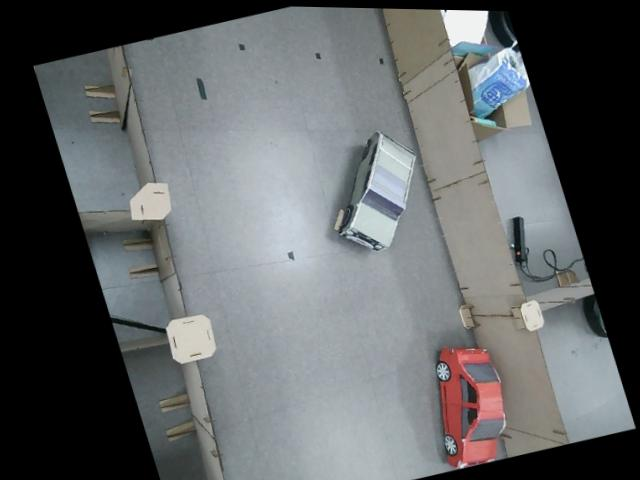car: (312, 122, 443, 259), (411, 334, 524, 473)
